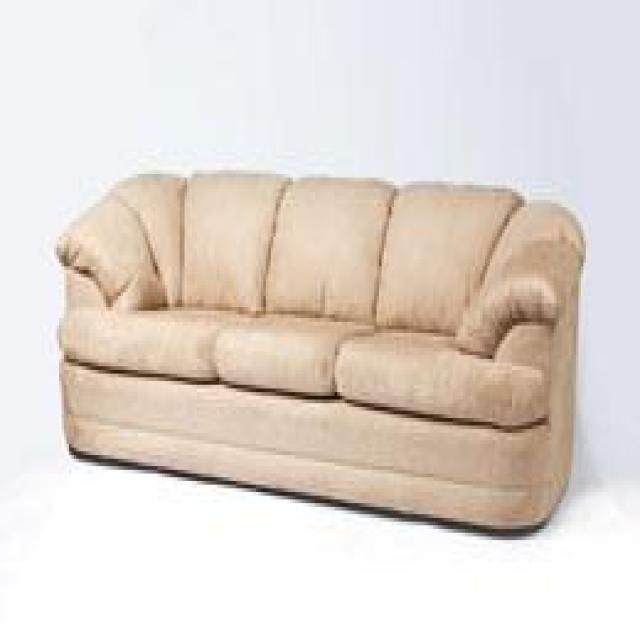sofa: (52, 162, 588, 541)
